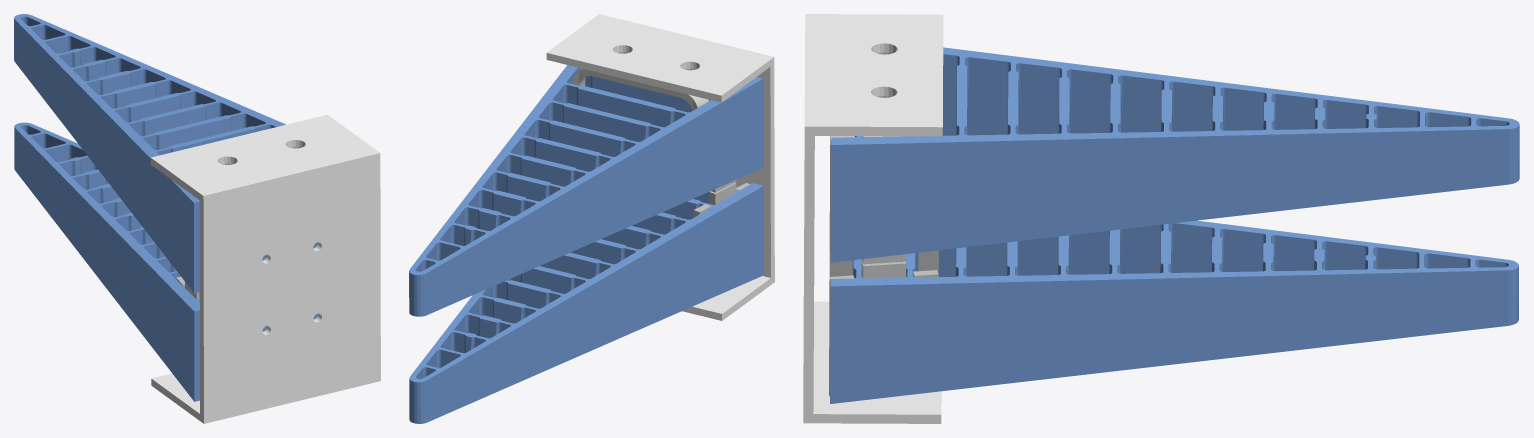
The model's file is Gripper.dae.
3 views of the same model, side by side, from view 1: azimuth 30°, elevation 25°; view 2: azimuth 150°, elevation 25°; view 3: azimuth 270°, elevation 25° (orthographic). The views are drawn at different scales.
Parts seen in each view (by area): view 1: Body1.072; view 2: Body1.072; view 3: Body1.072.
Boxes of the visible parts, <box> form: Body1.072: <box>14,14,380,423</box>; Body1.072: <box>409,14,774,423</box>; Body1.072: <box>803,14,1519,423</box>.
Bounding box in the file's own units: 0.036 × 0.0968 × 0.0443.
